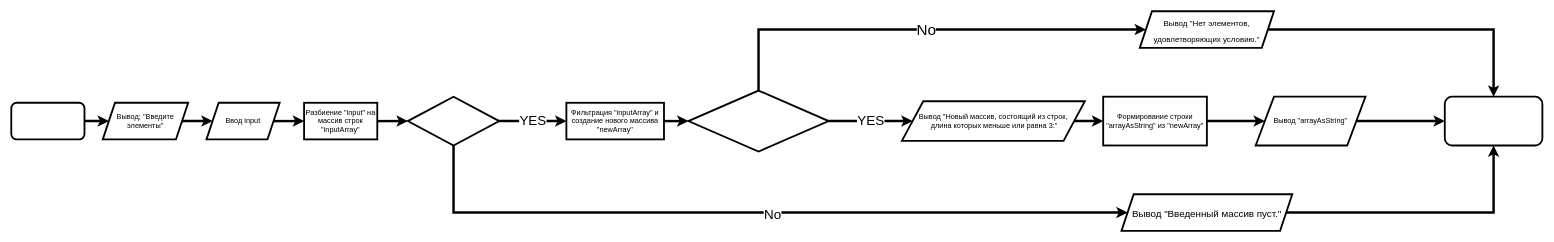
The diagram is 1554 pixels wide and 242 high, and some of its shapes have lost their labels. The shapes that lost their labels are listed below. From the top down, each one's box as (x1, y1, x2, y2) in pixels, then its label:
(10, 102, 85, 140): Begin
(407, 95, 500, 146): inputArray.Length > 0
(687, 89, 829, 152): Если длина "newArray" больше 0
(1444, 95, 1543, 146): end
